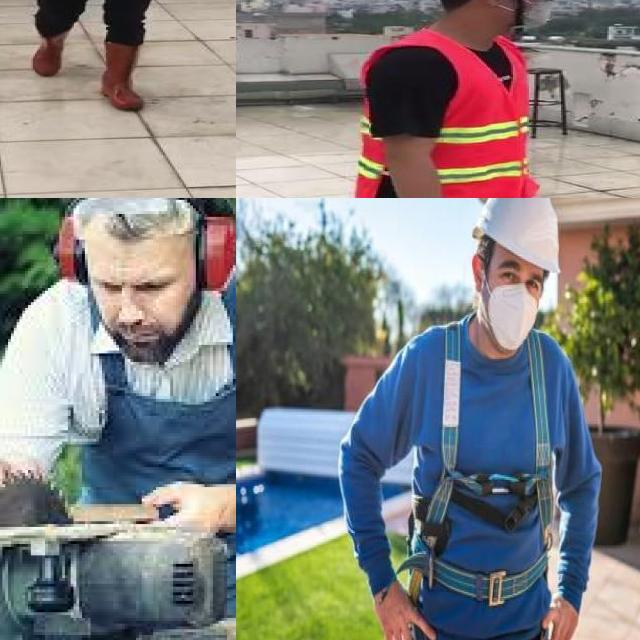Ear-protection: (193, 205, 236, 288), (51, 208, 88, 282)
Harness: (399, 323, 554, 608)
boots: (101, 38, 147, 111), (31, 28, 69, 77)
face_mask: (495, 0, 561, 35)
glasses: (65, 198, 193, 239)
person: (0, 198, 236, 640), (335, 0, 639, 198), (0, 0, 205, 122)
vest: (354, 29, 534, 198)
